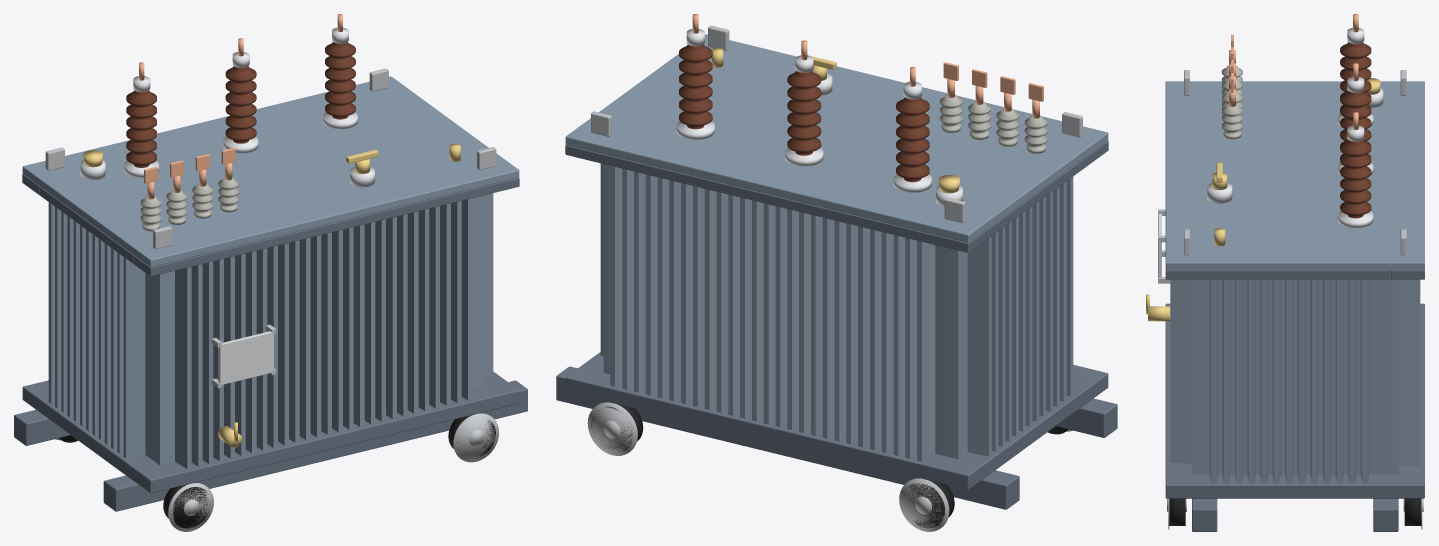
File: transformer-full.glb
The picture shows the model from 3 angles, left to right: view 1: azimuth 30°, elevation 25°; view 2: azimuth 150°, elevation 25°; view 3: azimuth 270°, elevation 25°; orthographic projection. The views are drawn at different scales.
Visible parts, largest first — view 1: tank_wall, lid, base, beam, rim_f, plate, bush_hv.001, bush_hv, bush_hv.002, flange.002, beam.001, wheel (+6 smaller); view 2: tank_wall, lid, base, beam.001, rim_b, bush_hv.001, bush_hv.002, bush_hv, flange.003, flange.001, beam, wheel.001 (+5 smaller); view 3: tank_wall, lid, base, bush_hv.002, rim_r, bush_hv, bush_hv.001, beam.001, beam, bush_lv.003, wheel.003, wheel.002 (+5 smaller).
Part boxes in pixels (<box>): tank_wall: <box>48,193,493,468</box>; lid: <box>22,76,519,267</box>; base: <box>22,371,519,493</box>; beam: <box>103,380,527,511</box>; rim_f: <box>134,177,519,276</box>; plate: <box>218,331,273,384</box>; bush_hv.001: <box>225,66,256,143</box>; bush_hv: <box>126,90,156,167</box>; bush_hv.002: <box>325,42,355,119</box>; flange.002: <box>453,413,499,462</box>; beam.001: <box>14,410,70,445</box>; wheel: <box>163,485,210,528</box>; tank_wall: <box>600,163,1073,461</box>; lid: <box>565,34,1108,242</box>; base: <box>565,352,1108,489</box>; beam.001: <box>556,366,1019,509</box>; rim_b: <box>565,145,986,252</box>; bush_hv.001: <box>787,71,821,155</box>; bush_hv.002: <box>679,44,712,129</box>; bush_hv: <box>896,97,929,182</box>; flange.003: <box>587,402,637,455</box>; flange.001: <box>899,478,949,531</box>; beam: <box>1056,398,1117,437</box>; wheel.001: <box>906,480,954,527</box>; tank_wall: <box>1170,279,1420,483</box>; lid: <box>1165,81,1424,270</box>; base: <box>1165,303,1424,498</box>; bush_hv.002: <box>1340,140,1371,218</box>; rim_r: <box>1199,270,1390,279</box>; bush_hv: <box>1340,42,1371,109</box>; bush_hv.001: <box>1340,91,1371,158</box>; beam.001: <box>1373,498,1398,531</box>; beam: <box>1192,498,1217,531</box>; bush_lv.003: <box>1221,104,1242,139</box>; wheel.003: <box>1404,498,1421,525</box>; wheel.002: <box>1169,498,1185,525</box>.
Bounding box in the file's own units: 1.91 × 1.72 × 1.11.
